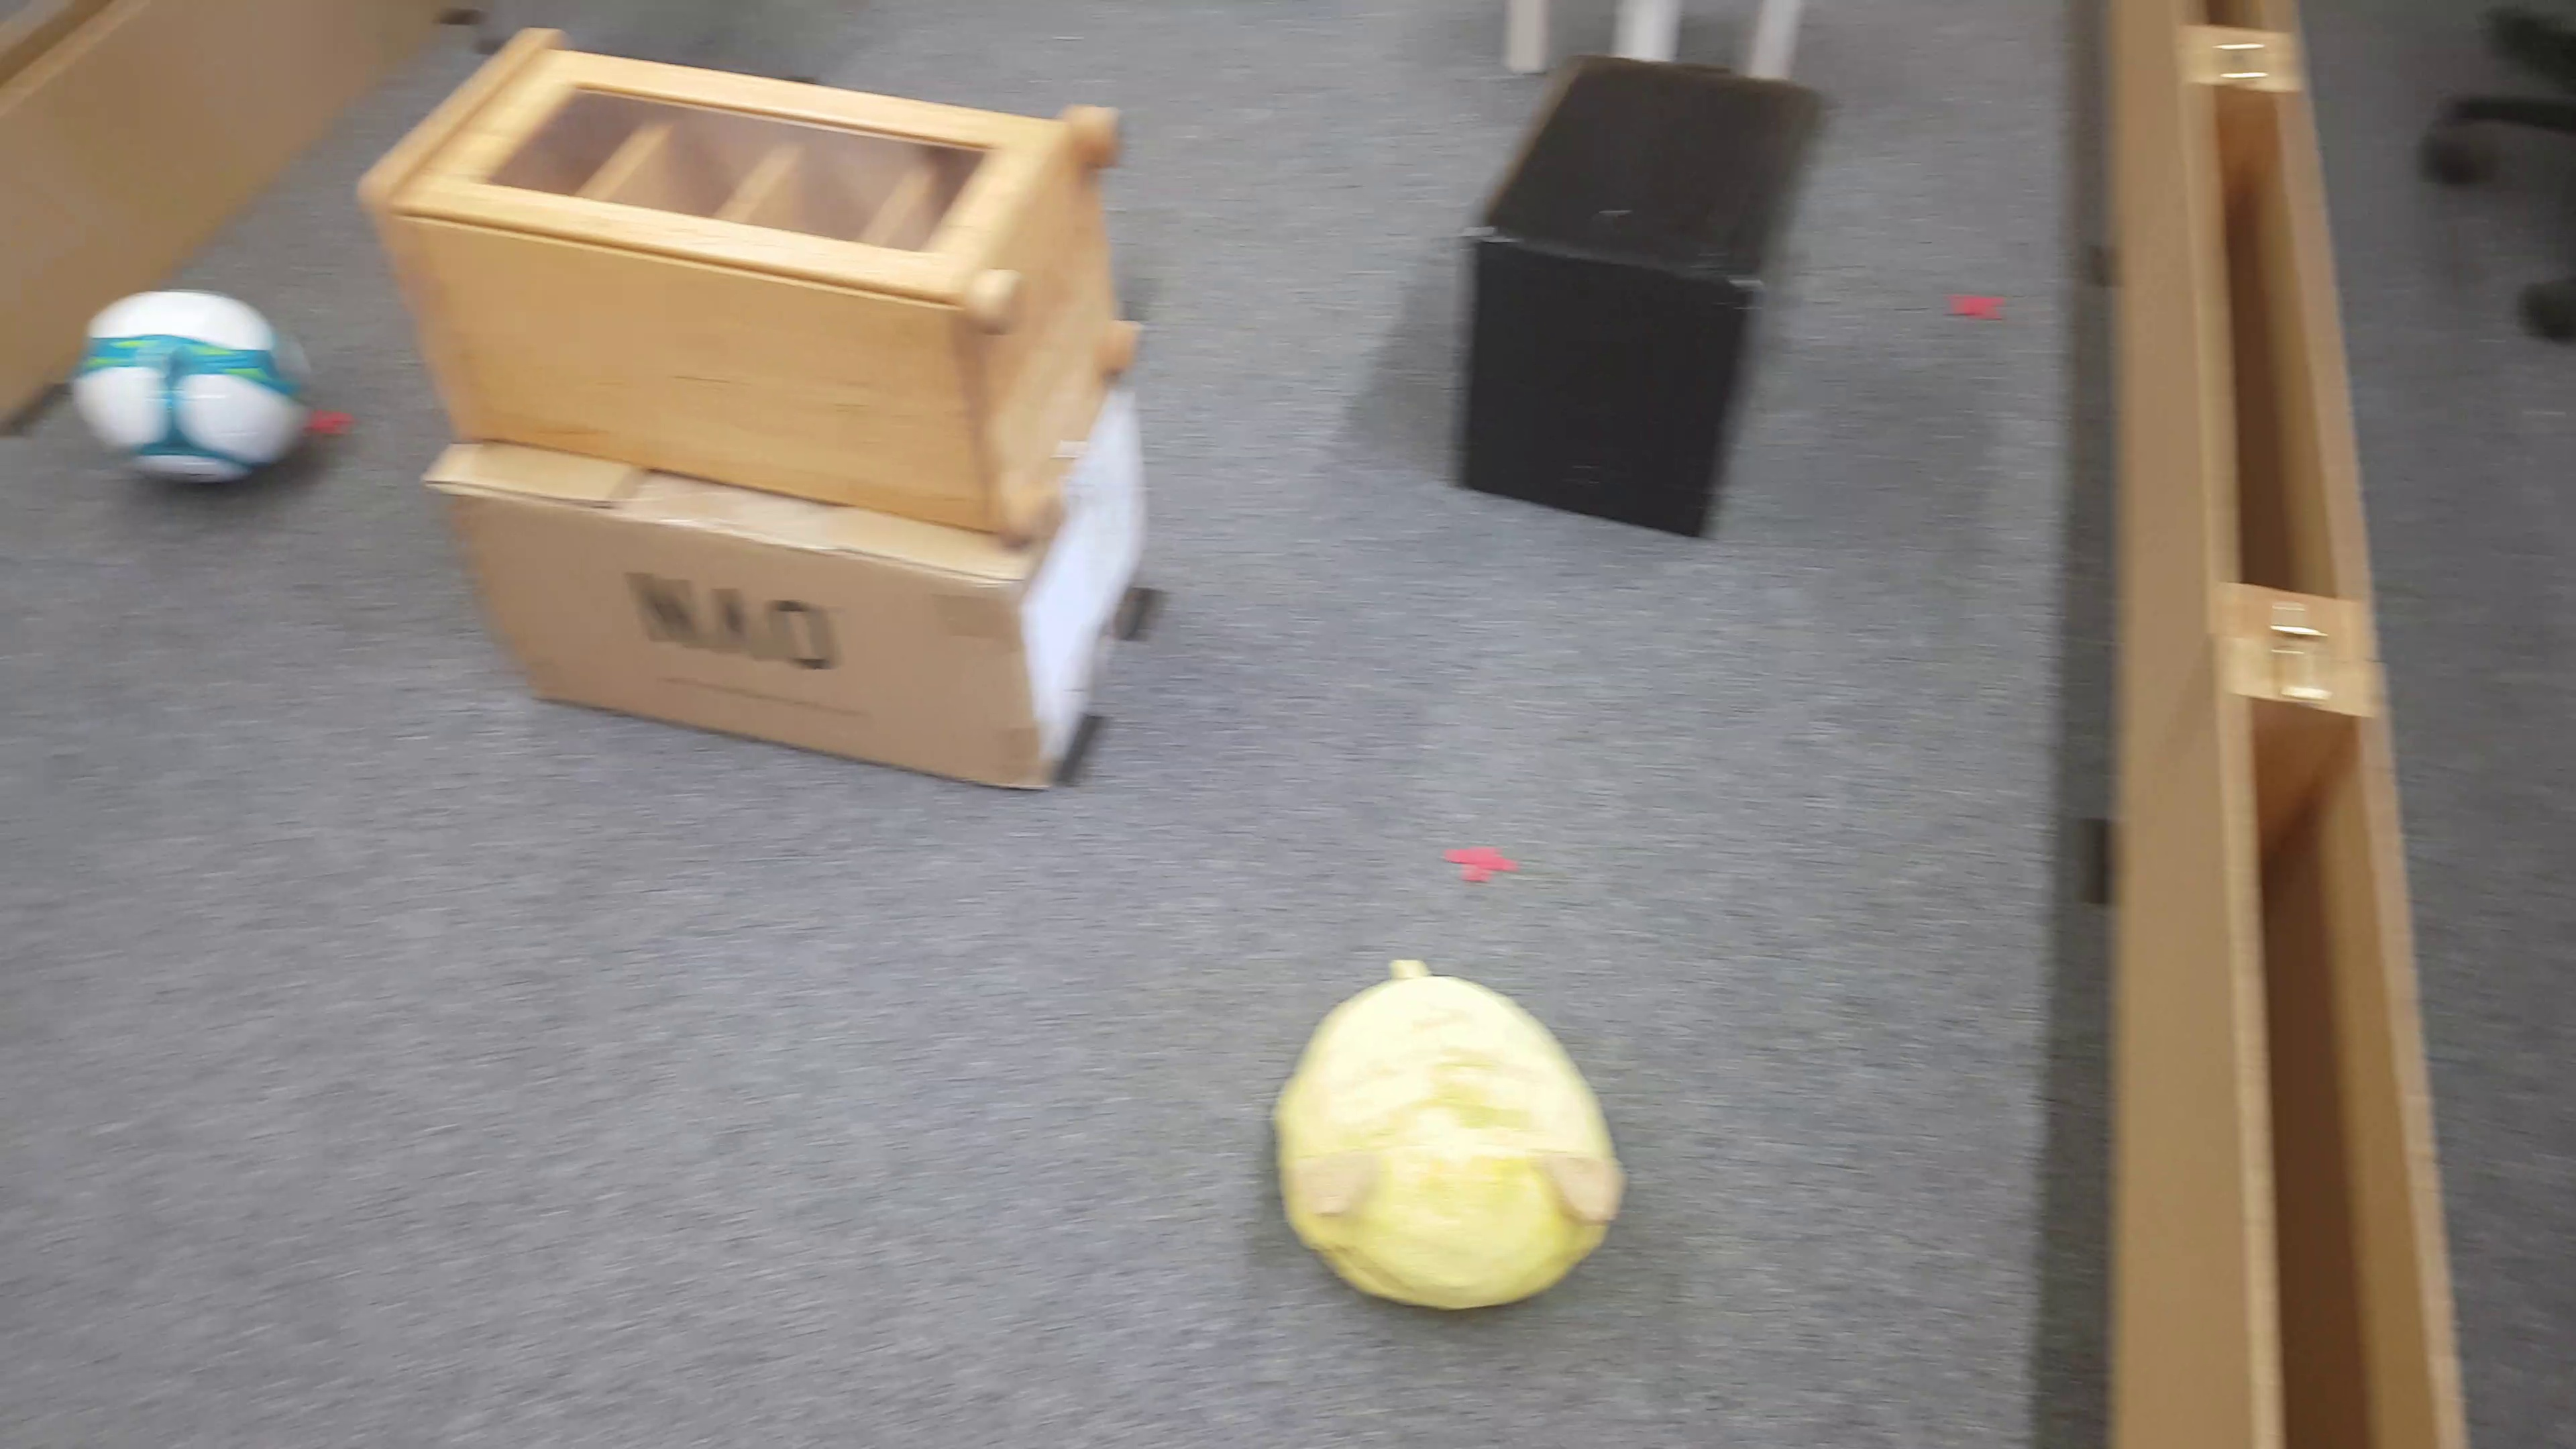grasp: (1274, 954, 1621, 1316)
kick: (71, 285, 322, 488)
push: (1454, 53, 1835, 538)
